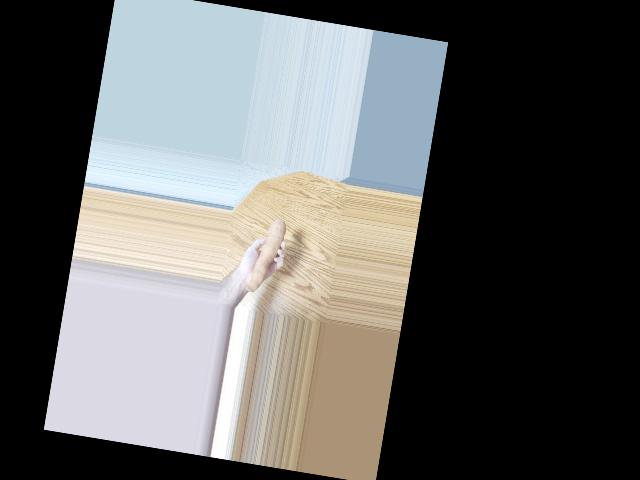sweet_potato: (249, 214, 289, 293)
